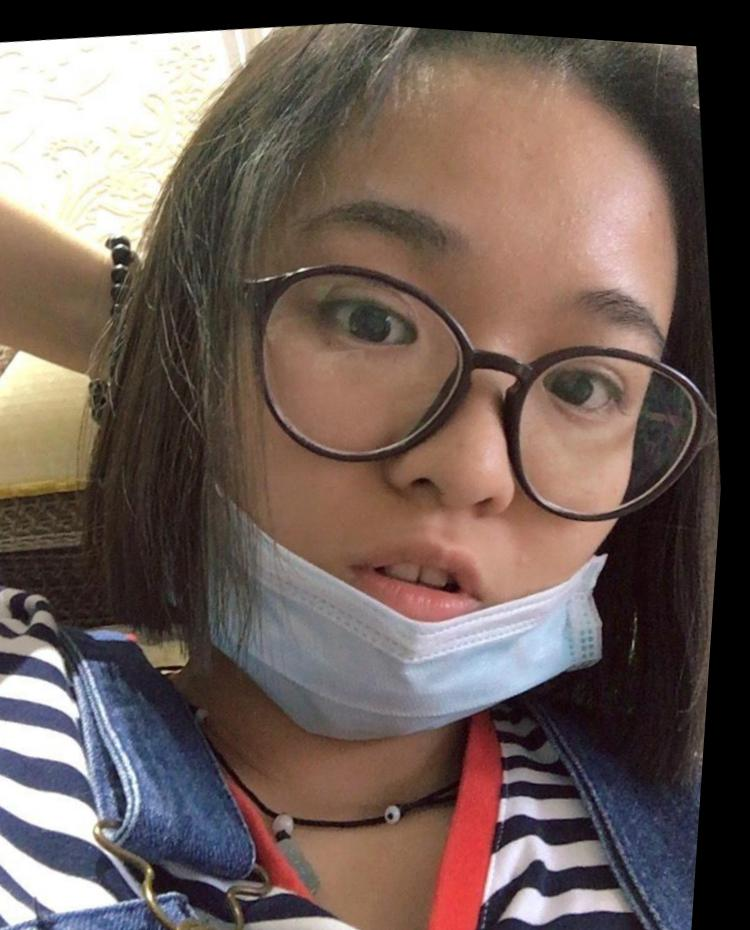WRONG: (155, 115, 732, 760)
